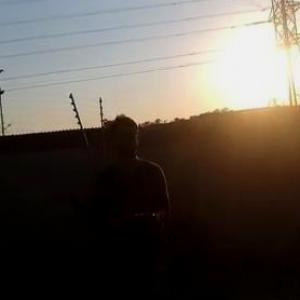follow: (91, 107, 180, 299)
